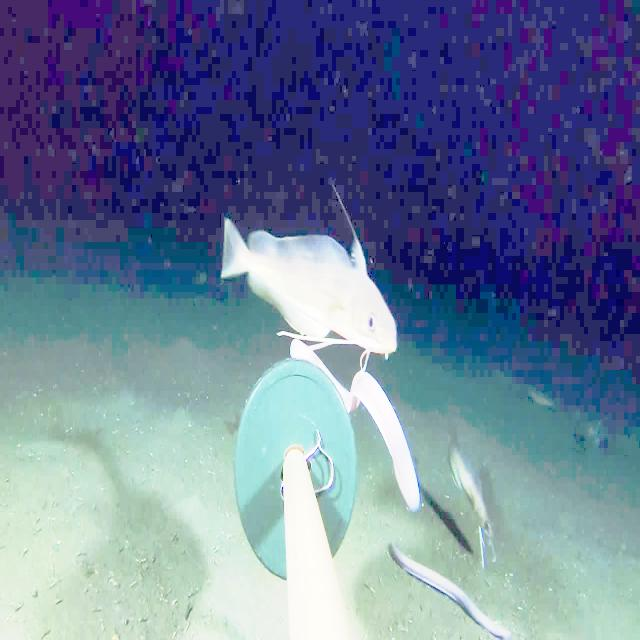eel: (275, 320, 432, 534), (377, 521, 513, 639)
fish: (214, 225, 404, 381), (437, 413, 507, 554), (577, 400, 613, 464), (517, 372, 559, 424)
pole: (232, 388, 360, 584)
